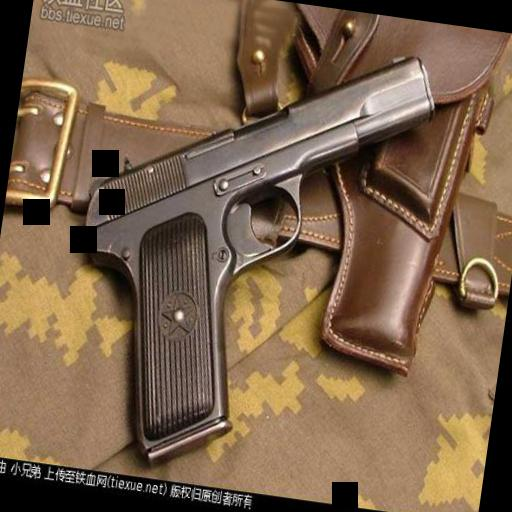Handgun: (44, 4, 442, 494)
